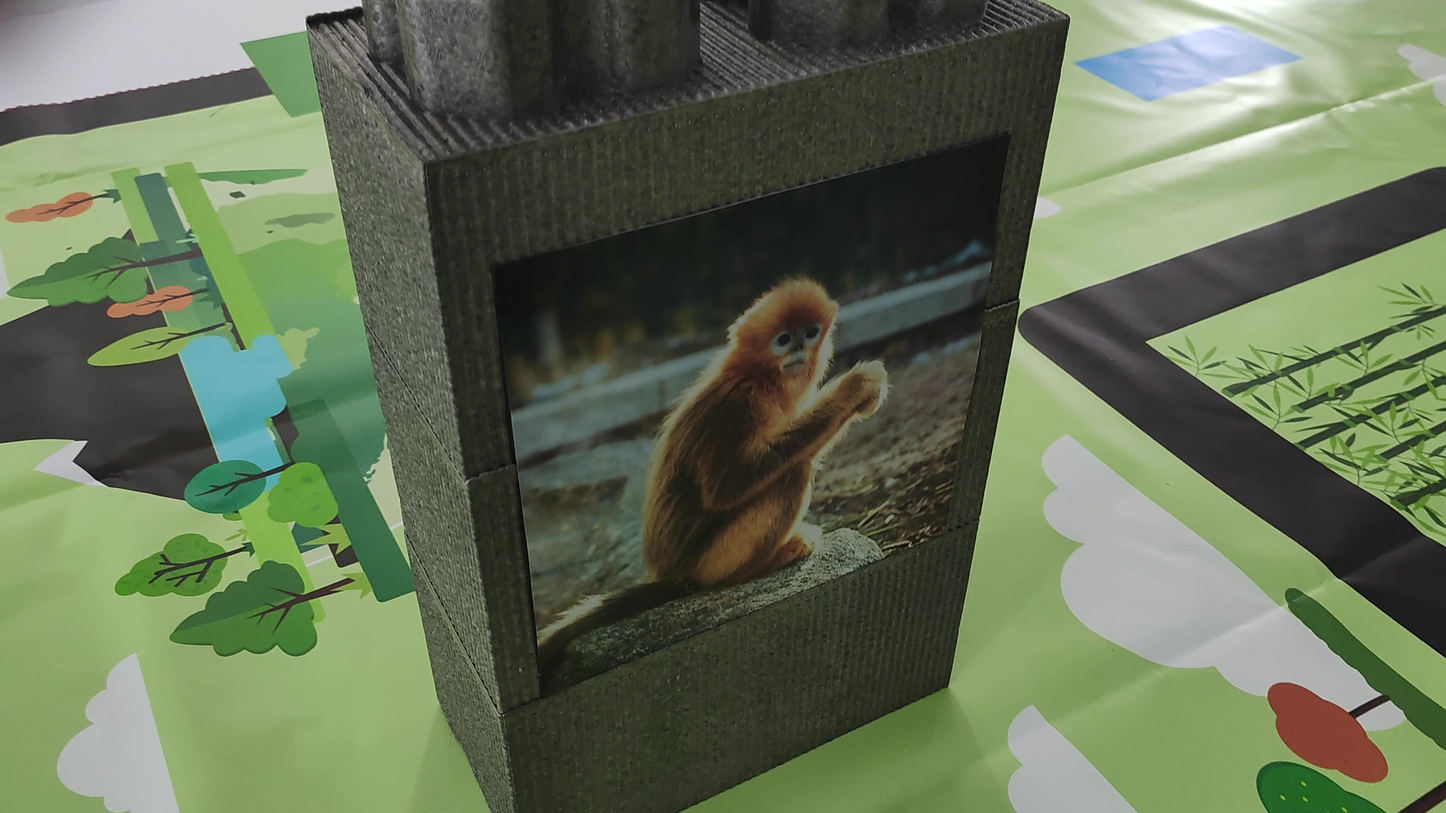monkey: (526, 264, 898, 693)
